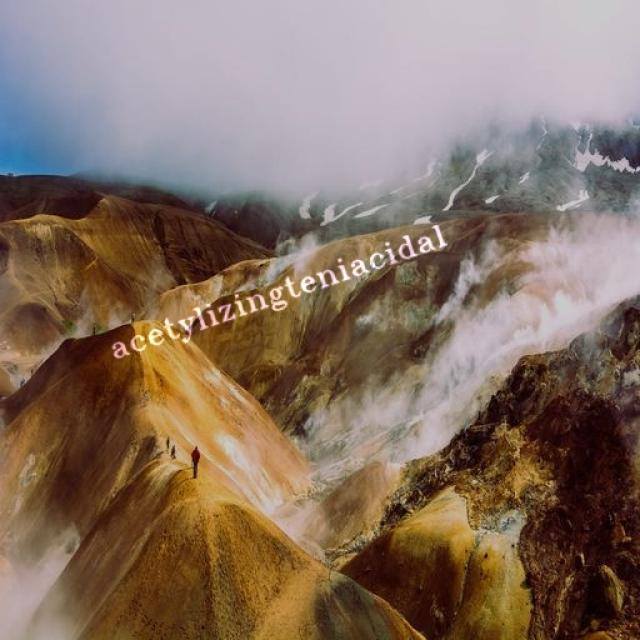watermark: (105, 219, 448, 364)
